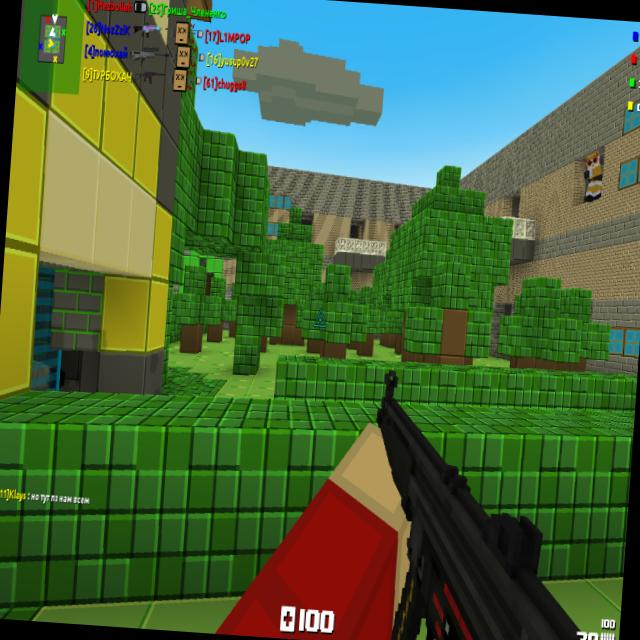enemy: (581, 149, 604, 202)
